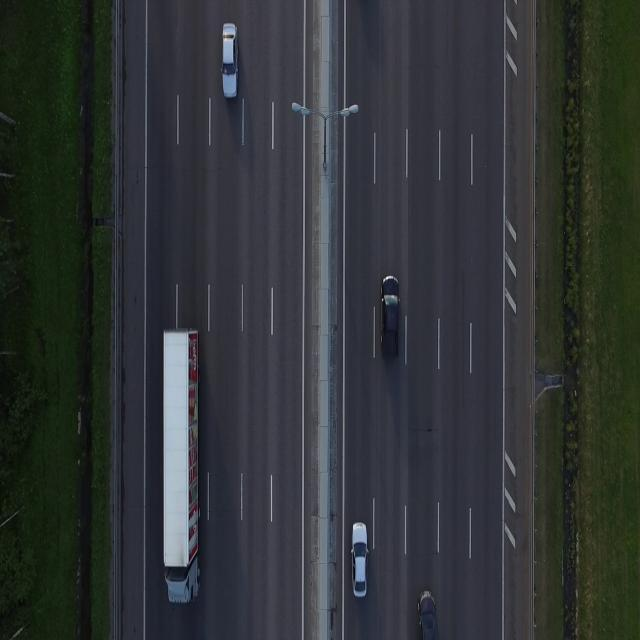vehicle: (161, 320, 199, 613), (381, 273, 399, 360), (351, 521, 368, 597), (222, 22, 238, 98), (418, 590, 436, 638)
